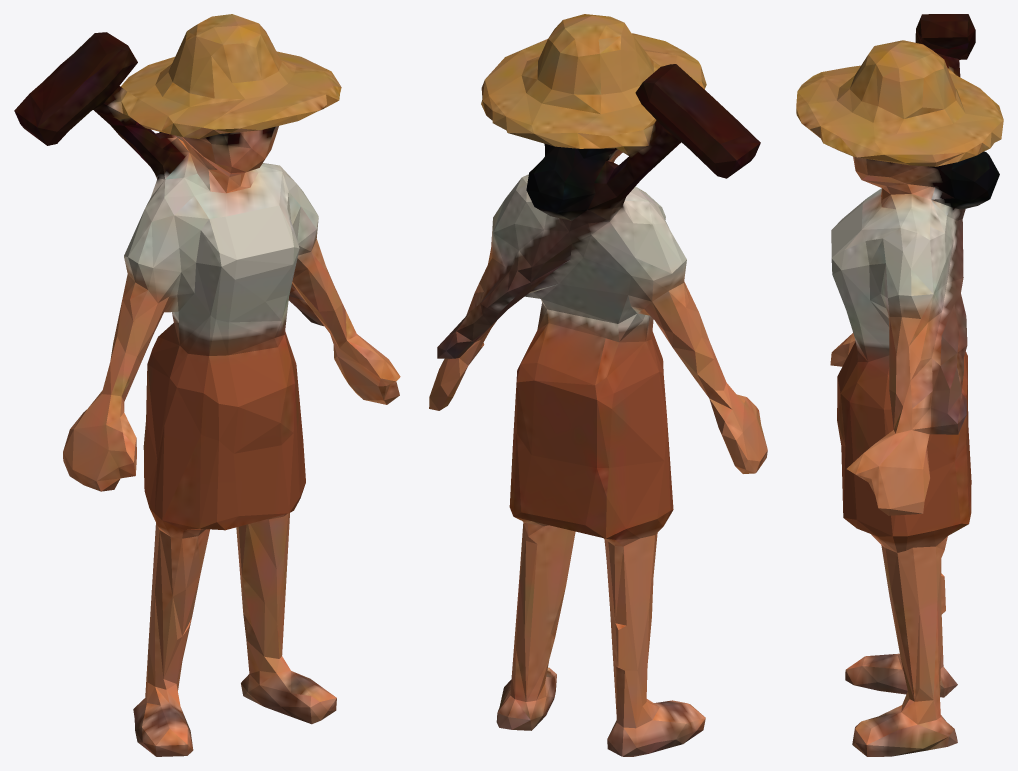
File: habitant-loin.glb
3 renders of one model, left to right at view 1: azimuth 30°, elevation 25°; view 2: azimuth 150°, elevation 25°; view 3: azimuth 270°, elevation 25°, orthographic. The views are drawn at different scales.
Visible parts, largest first — view 1: habitant; view 2: habitant; view 3: habitant.
Boxes of the visible parts, left/top/right/bottom form: habitant: left=14, top=14, right=400, bottom=756; habitant: left=429, top=14, right=767, bottom=756; habitant: left=796, top=14, right=1003, bottom=756.
Size of the model in its own units: 0.5128 by 1.01 by 0.2838.
Materials: 1 (1 with a texture image).
